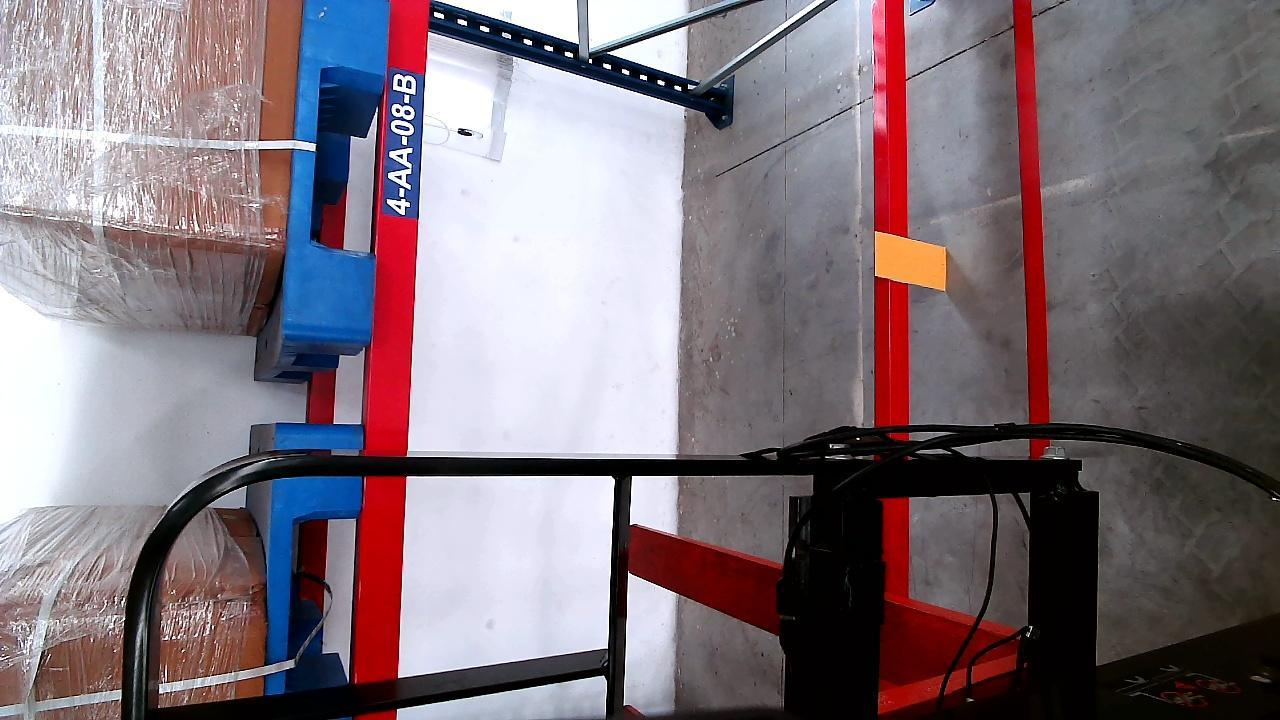red_line: (1017, 0, 1051, 431)
